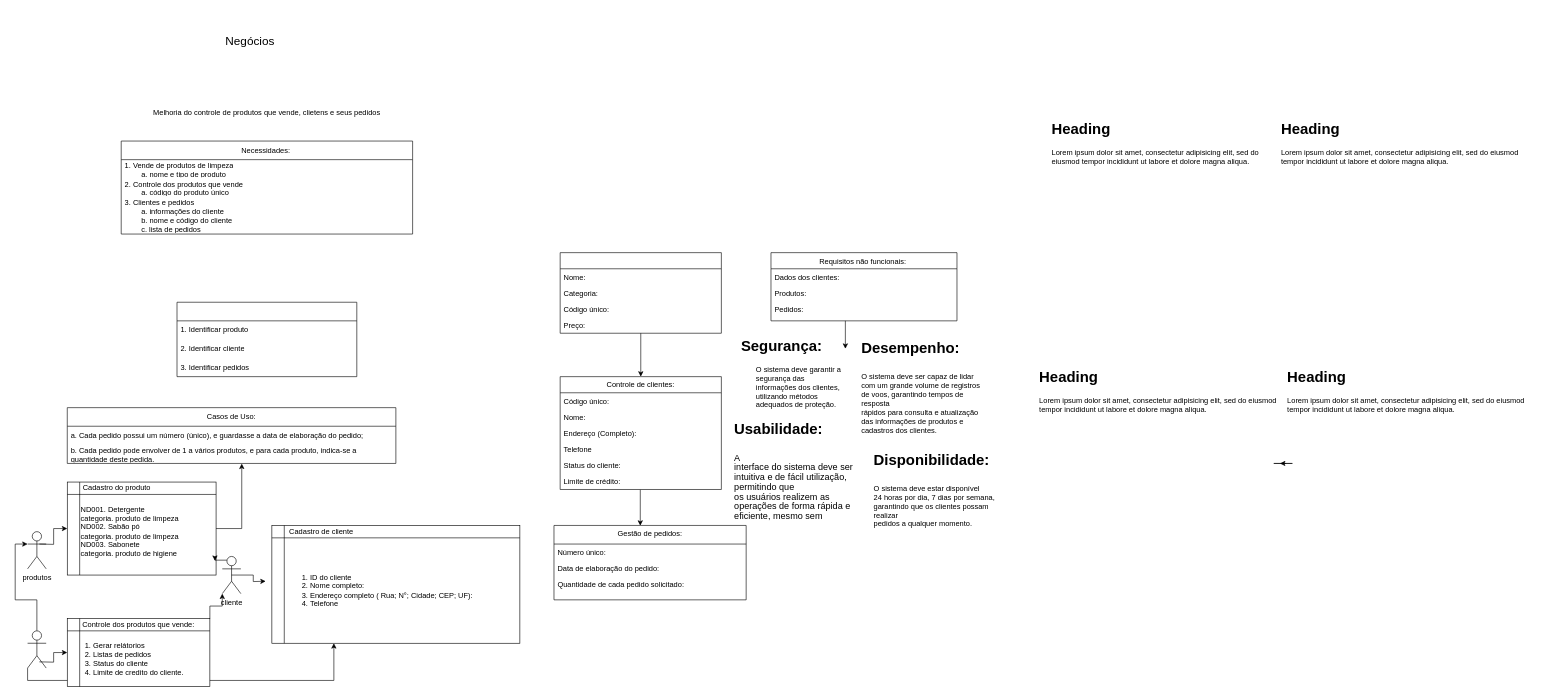
Some shapes in this 1557 by 698 pixel diagram are drawn without their labels. The shapes that lost their labels are listed below. From the top down, each one's box as (x1, y1, x2, y2) in pixels, then its label:
(560, 252, 721, 333): Requisistos Funcionais: Cadastro de produtos
(176, 302, 357, 377): Caracteristicas:
(27, 630, 46, 668): pedidos
